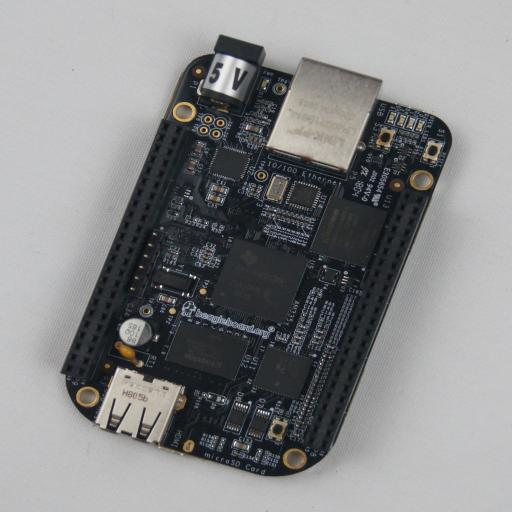Beaglebone Black: (60, 35, 452, 476)
